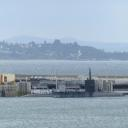submarine: (24, 80, 127, 98)
